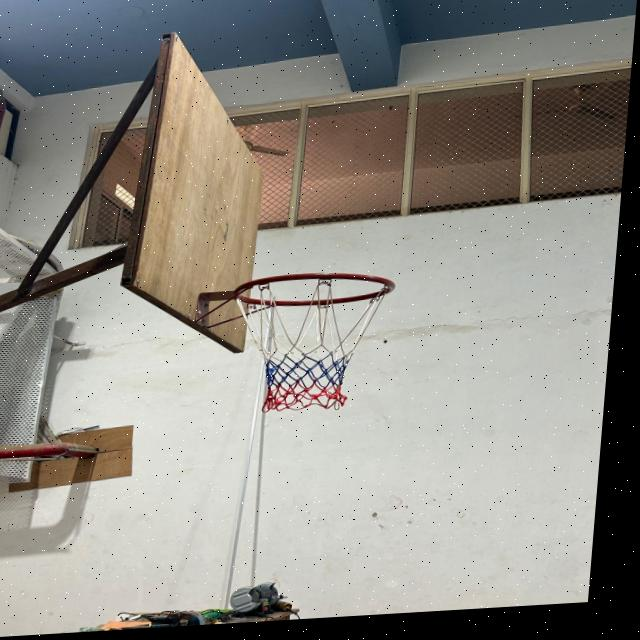hoop: (195, 262, 407, 426)
